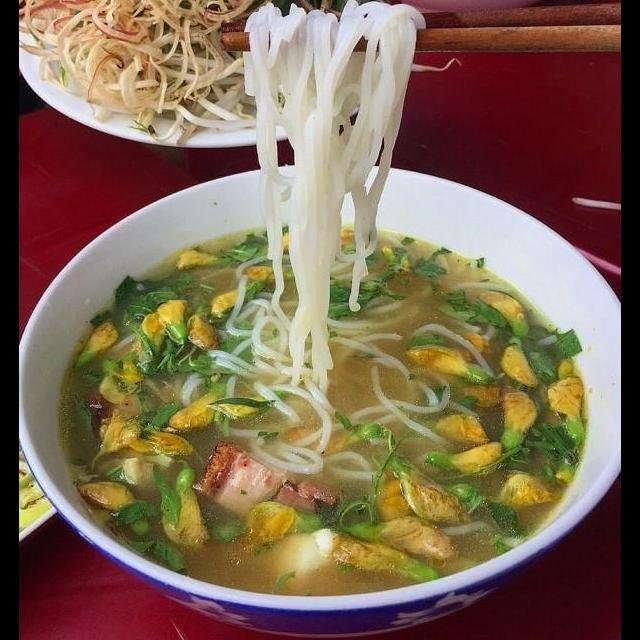bun: (181, 0, 434, 473), (174, 277, 523, 487)
bun bo: (58, 28, 598, 619)
rau ram: (106, 264, 262, 385), (463, 293, 584, 391), (107, 457, 195, 577)
thit heo quay: (189, 439, 354, 533)
